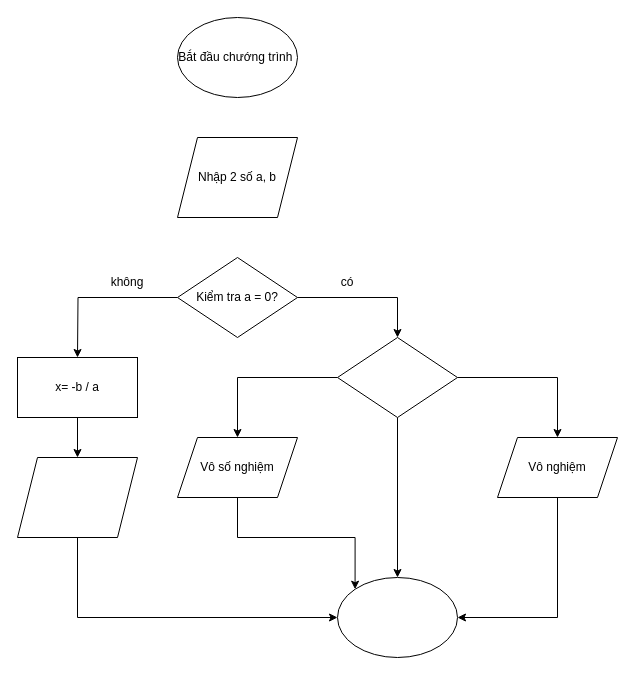
The diagram is 635 pixels wide and 675 high, and some of its shapes have lost their labels. The box of each missing label's shape, as (x1, y1, x2, y2) in pixels:
Kiểm tra b = 0?: (336, 336, 458, 418)
Kết thúc chương trình: (336, 576, 458, 658)
Xuất nghiệm x ra khỏi màn hình: (16, 456, 138, 538)
